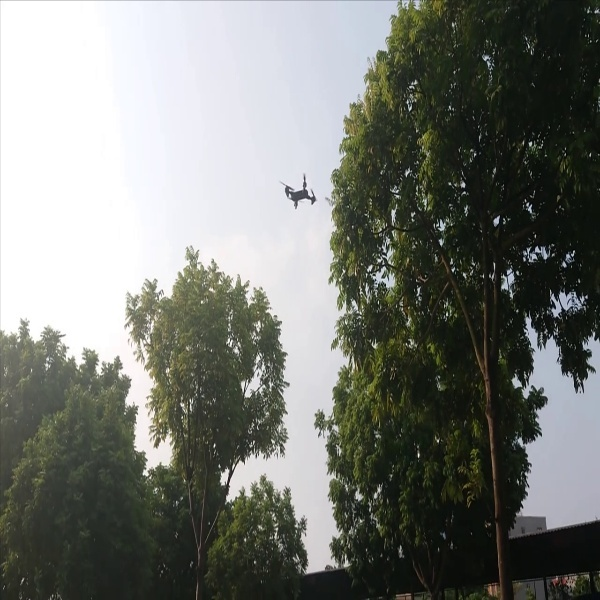drone: (279, 170, 321, 213)
